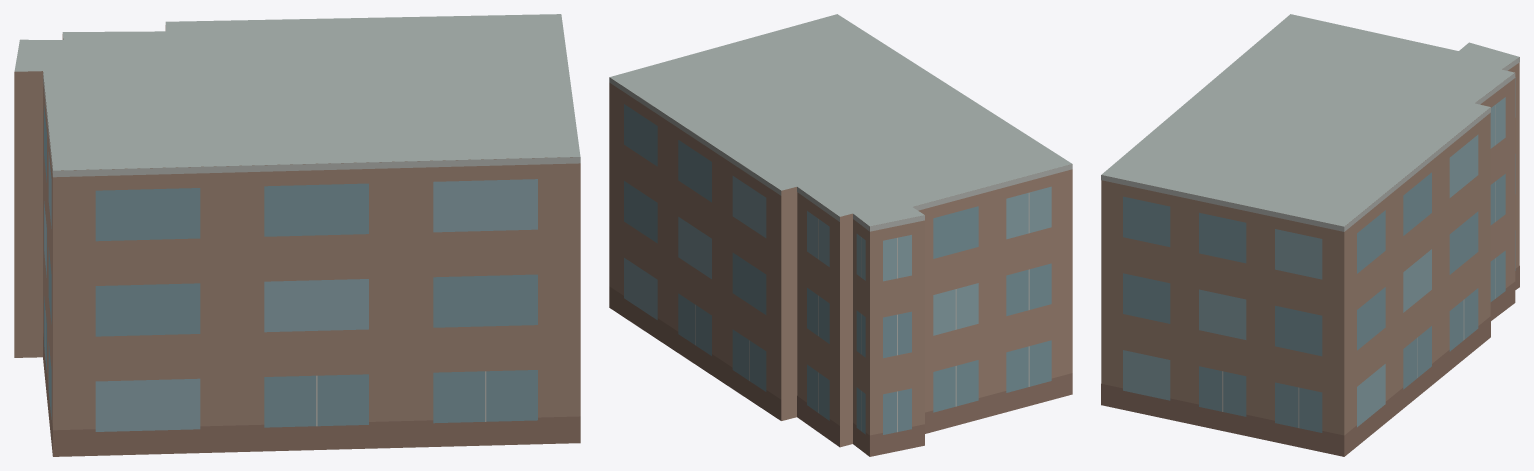
File: survey-upis-32888407.glb
3 views of the same model, side by side, from view 1: azimuth 30°, elevation 25°; view 2: azimuth 150°, elevation 25°; view 3: azimuth 270°, elevation 25° (orthographic). The views are drawn at different scales.
Visible parts, largest first — view 1: survey-upis-32888407.tmp; view 2: survey-upis-32888407.tmp; view 3: survey-upis-32888407.tmp.
Boxes of the visible parts, x1=… form: survey-upis-32888407.tmp: x1=14, y1=14, x2=580, y2=456; survey-upis-32888407.tmp: x1=609, y1=14, x2=1072, y2=456; survey-upis-32888407.tmp: x1=1101, y1=14, x2=1519, y2=456.
Bounding box in the file's own units: 21.01 × 10.6 × 17.48.
